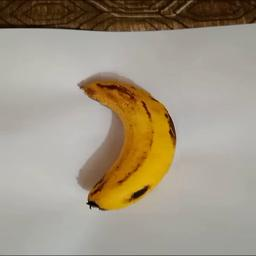Banana Semifresh: (76, 67, 182, 213)
